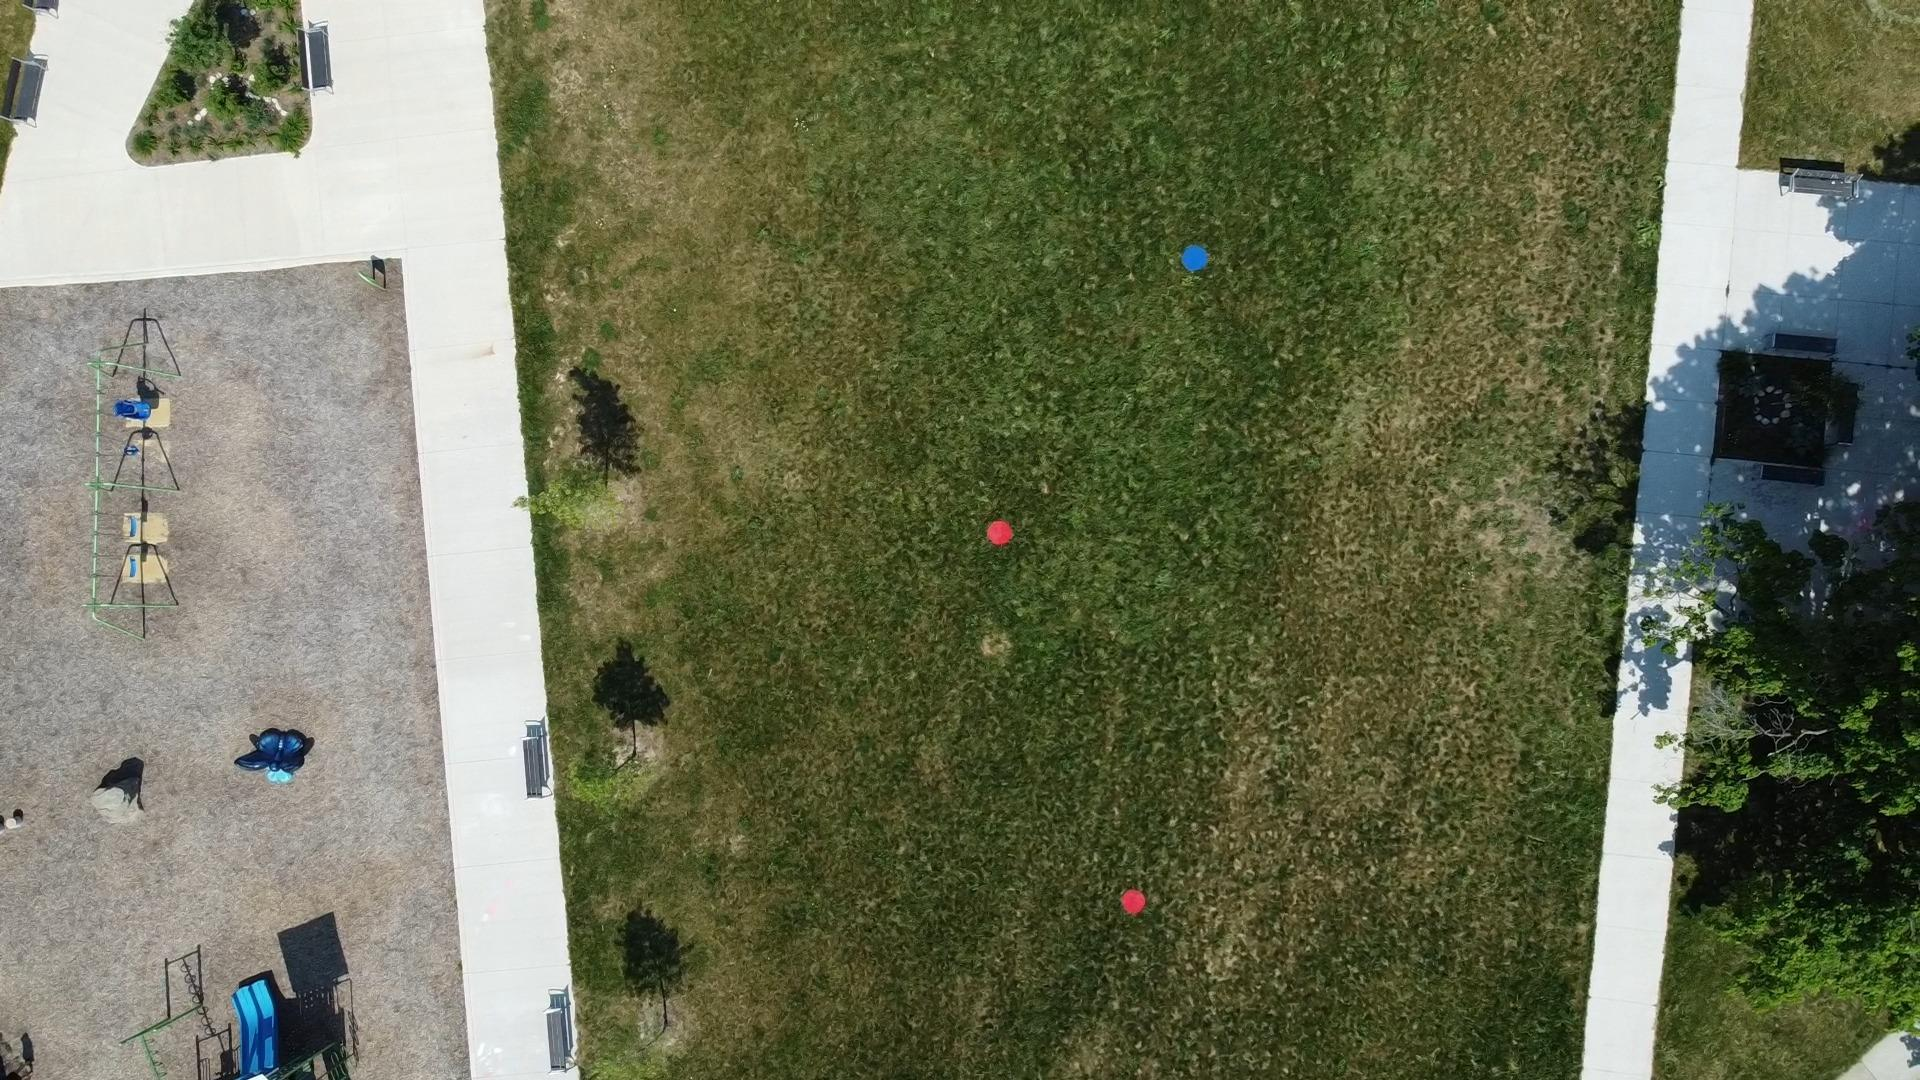Blue: (1182, 244, 1209, 272)
Red: (985, 520, 1014, 547), (1120, 889, 1146, 915)
